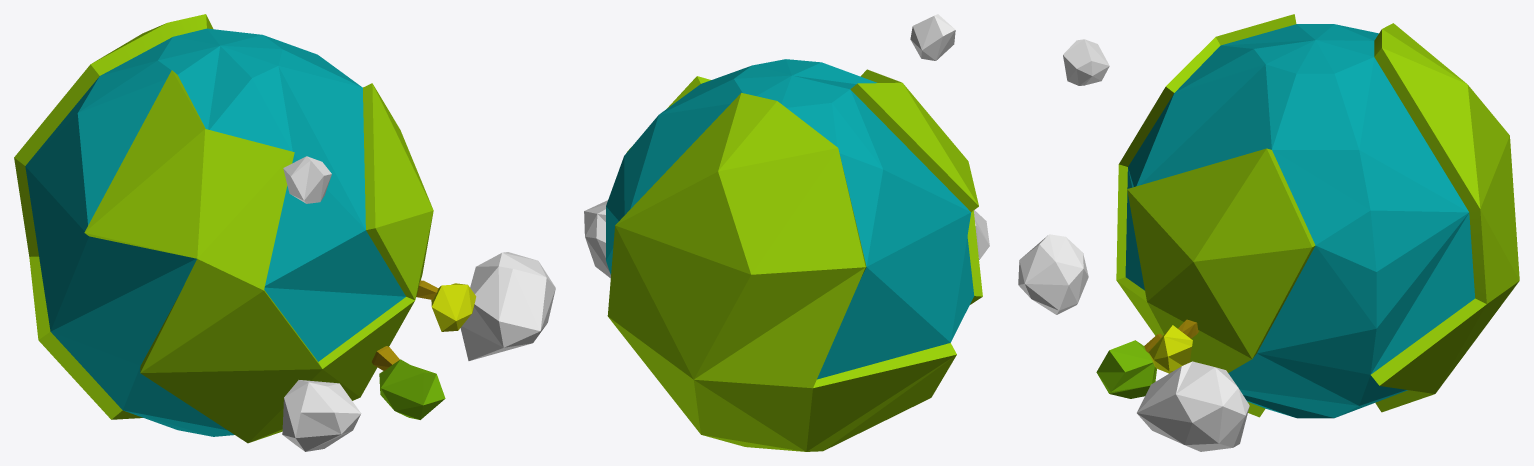
The model's file is lowpoly_normalPlanet.fbx.
3 views of the same model, side by side, from view 1: azimuth 30°, elevation 25°; view 2: azimuth 150°, elevation 25°; view 3: azimuth 270°, elevation 25° (orthographic). The views are drawn at different scales.
Parts seen in each view (by area): view 1: pSphere1, pSphere3, pSphere5, pSphere2, pSphere4, pSphere6; view 2: pSphere1, pSphere4, pSphere3, pSphere5; view 3: pSphere1, pSphere3, pSphere5, pSphere2, pSphere4, pSphere6.
Part boxes in pixels (<box>): pSphere1: <box>14,14,433,443</box>; pSphere3: <box>460,252,555,360</box>; pSphere5: <box>282,380,361,451</box>; pSphere2: <box>379,359,445,419</box>; pSphere4: <box>283,156,331,203</box>; pSphere6: <box>431,283,476,331</box>; pSphere1: <box>606,59,982,451</box>; pSphere4: <box>910,14,955,60</box>; pSphere3: <box>584,200,610,278</box>; pSphere5: <box>973,210,989,259</box>; pSphere1: <box>1116,14,1519,418</box>; pSphere3: <box>1137,361,1249,451</box>; pSphere5: <box>1018,234,1088,314</box>; pSphere2: <box>1096,340,1156,398</box>; pSphere4: <box>1063,39,1109,85</box>; pSphere6: <box>1148,325,1192,373</box>.
Bounding box in the file's own units: 49.36 × 39.6 × 49.02.
